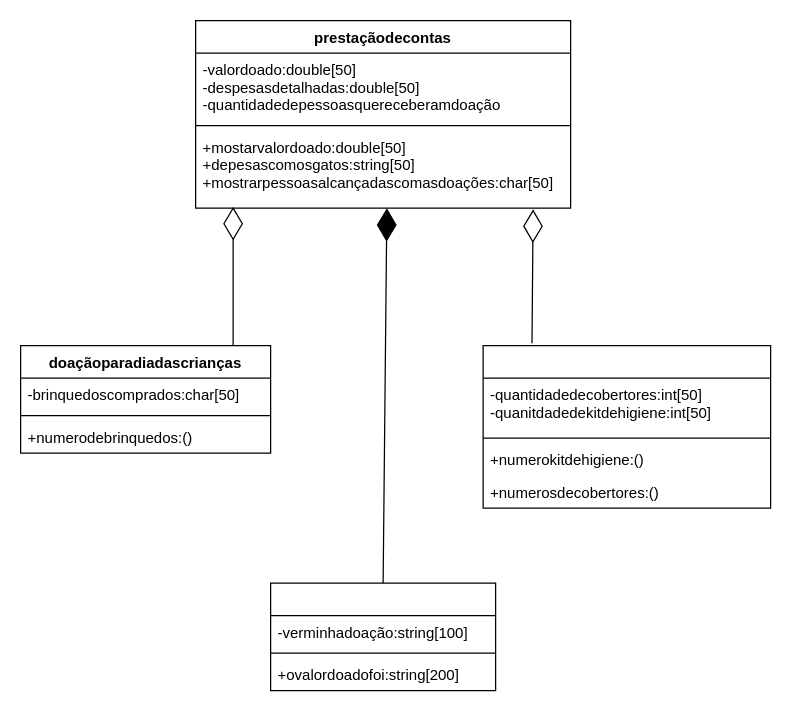
Image size: 791x711. Some labels were removed from this diagram. Each missing label, with the box of its shape:
acompanhamentodedoação: (269, 582, 496, 691)
doaçãolardosvelhinhos: (482, 344, 771, 508)
